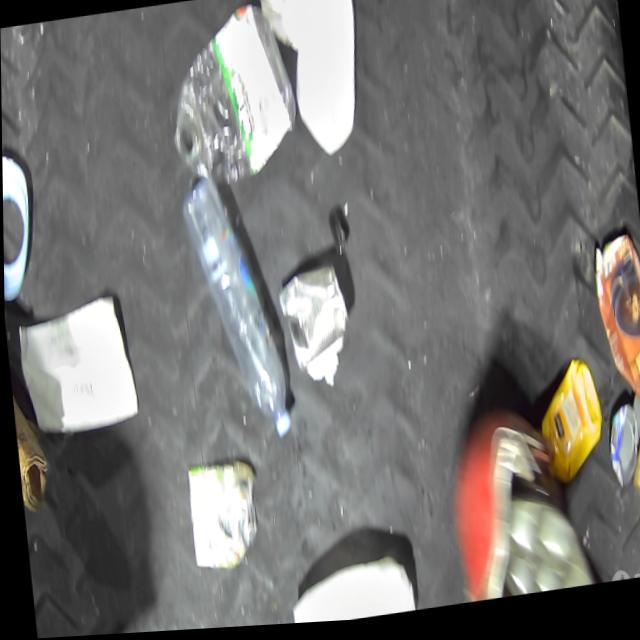can: (180, 458, 262, 575), (273, 259, 352, 380), (601, 406, 640, 496), (621, 410, 640, 519), (599, 0, 619, 28)
milk_jug: (283, 556, 414, 627)
non_white_jug: (532, 360, 606, 491)
plastic_bottle: (176, 168, 292, 454), (158, 0, 303, 200)
